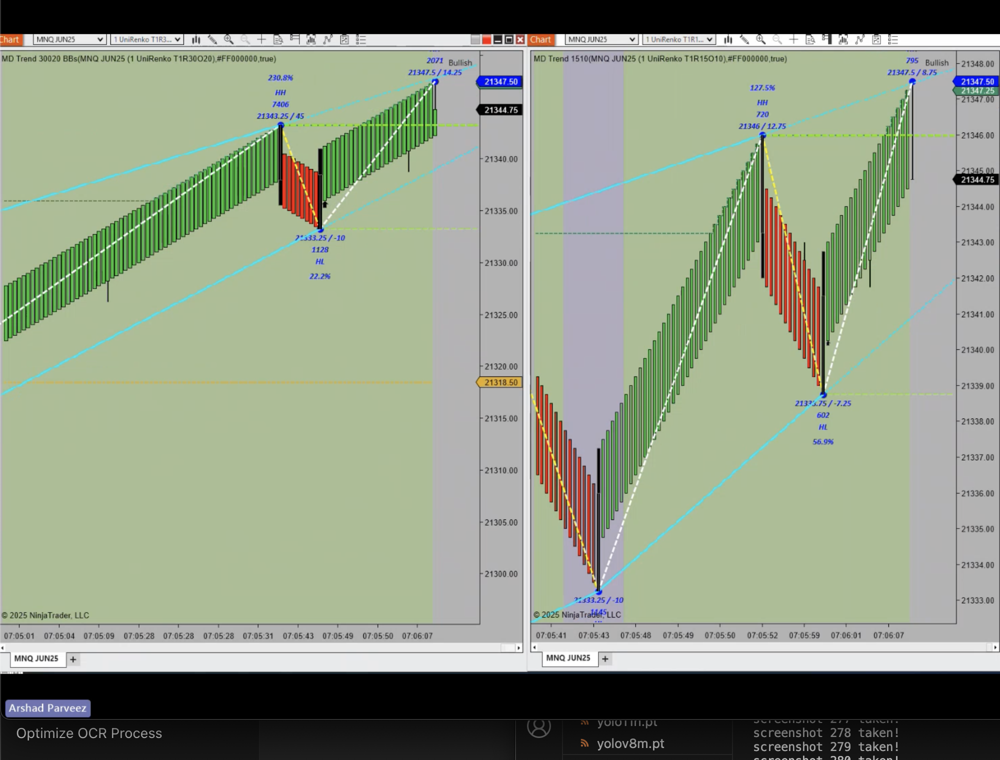HH: (269, 84, 296, 99), (754, 95, 774, 110)
HL: (309, 255, 335, 272), (814, 418, 837, 436)
